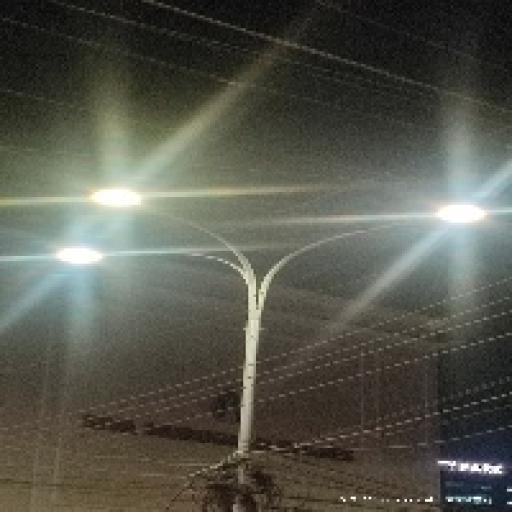Working: (84, 181, 150, 218), (49, 241, 110, 272)
